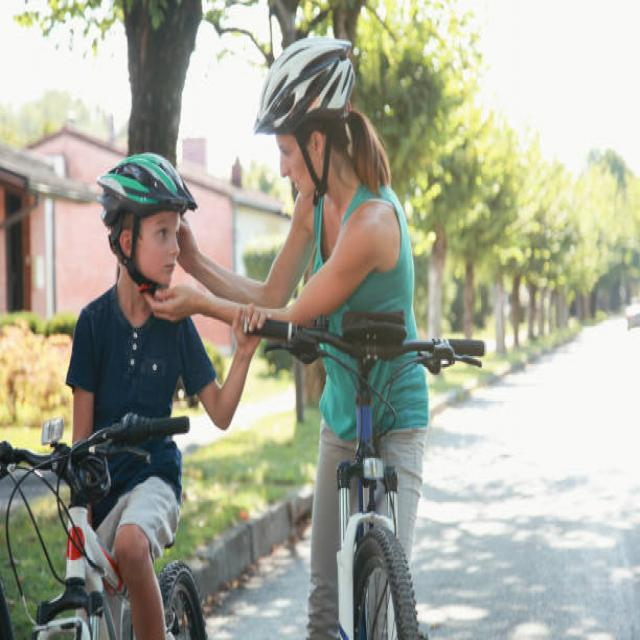with-helmet: (255, 28, 367, 193), (98, 141, 192, 292)
